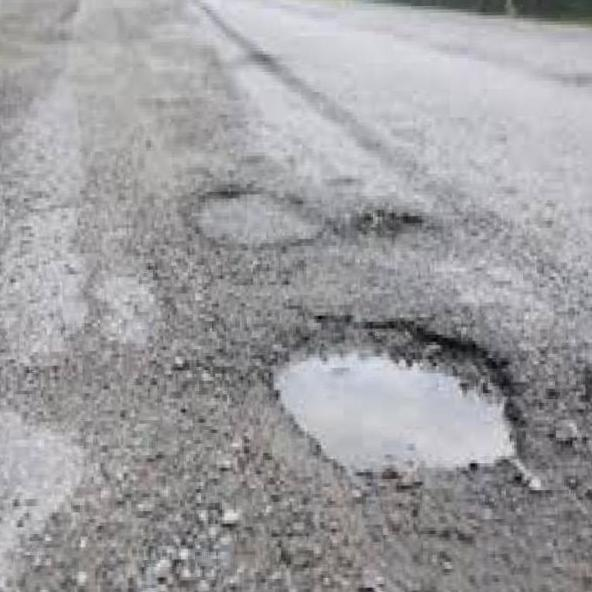pothole: (267, 284, 535, 504), (184, 177, 326, 255), (358, 203, 435, 246)
